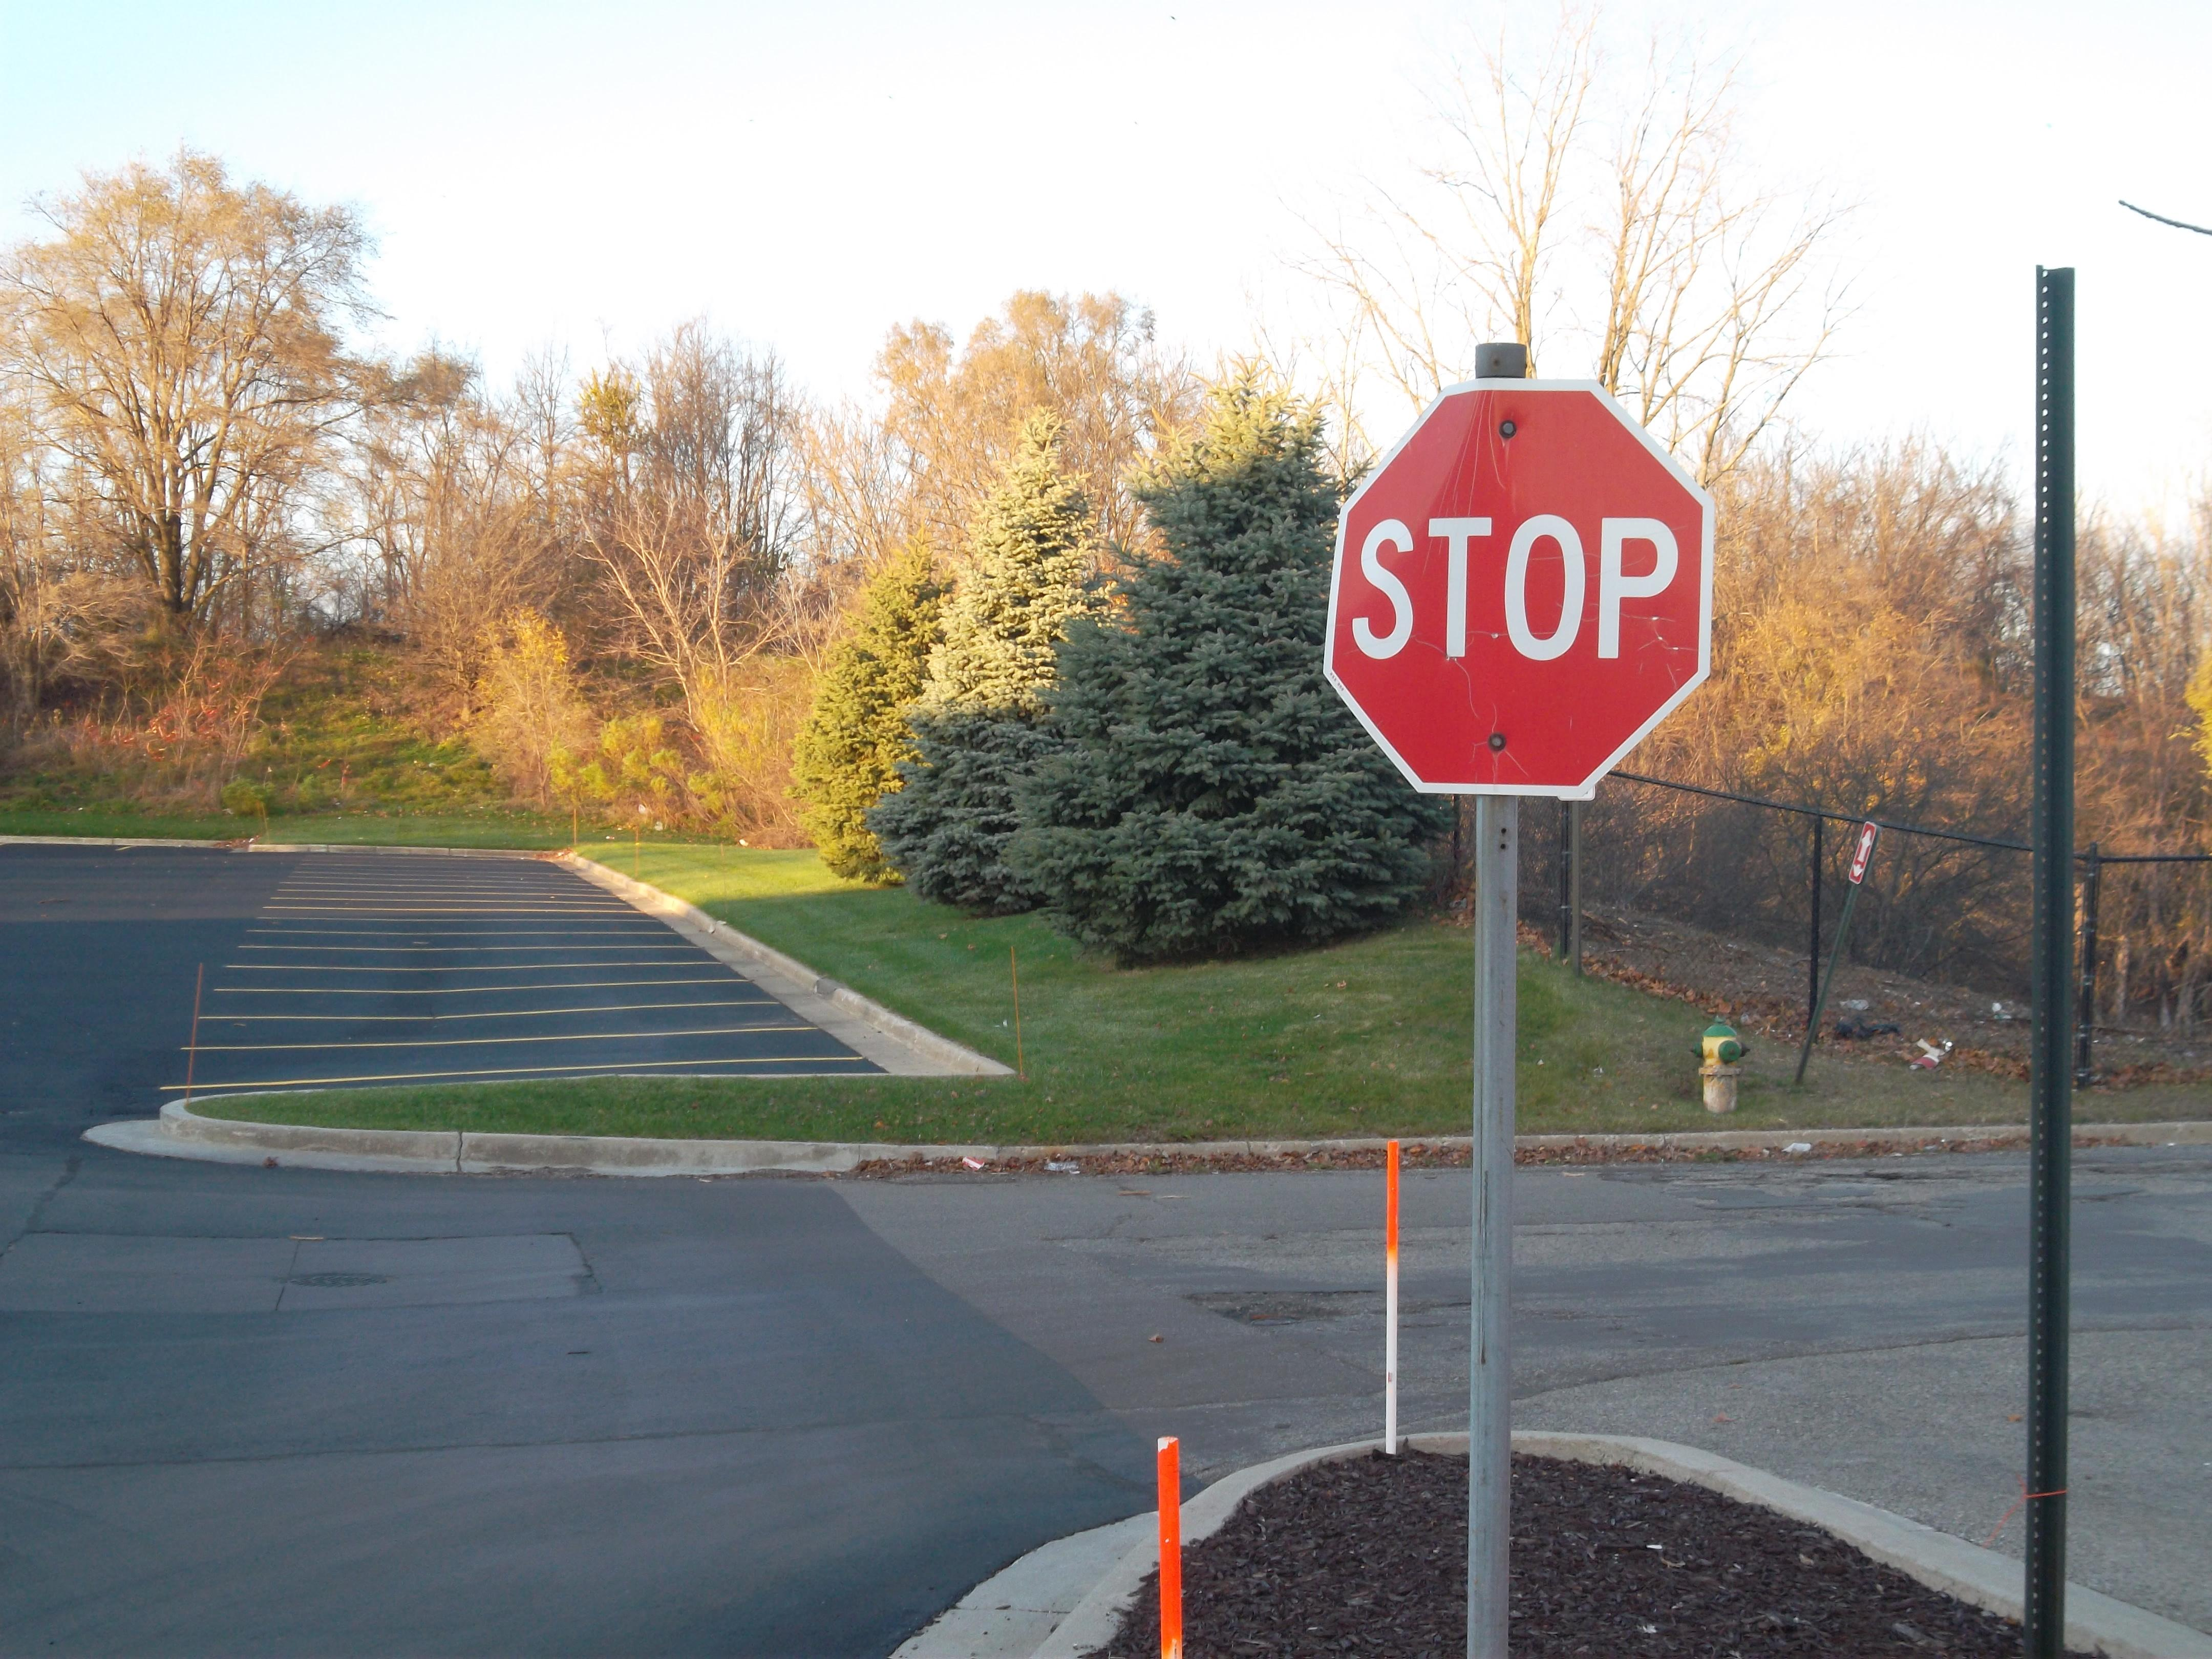stop: (1324, 371, 1721, 803)
